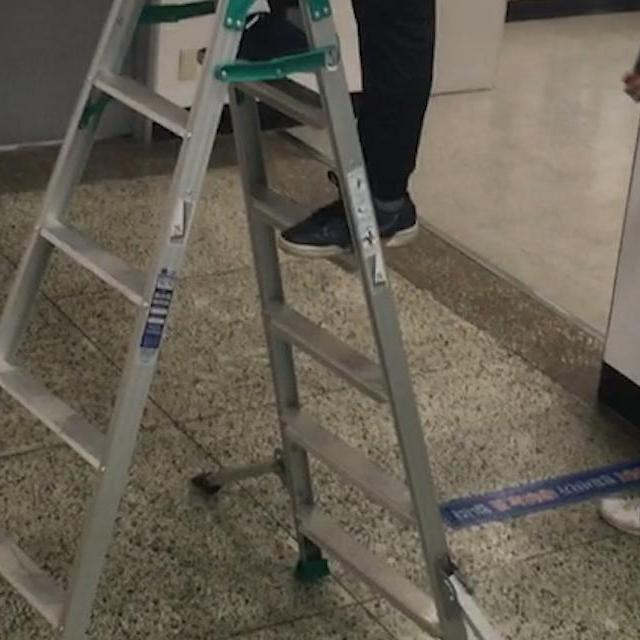Ladder: (0, 0, 640, 640)
Person: (21, 0, 511, 258)
